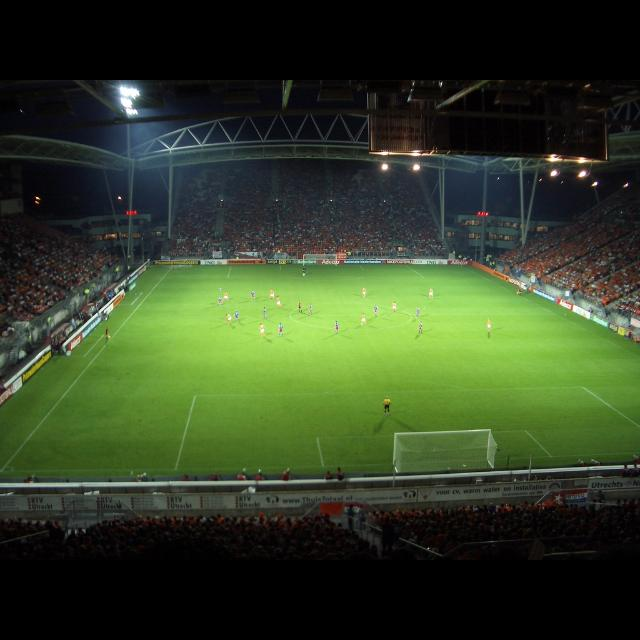Football: (218, 288, 222, 290)
